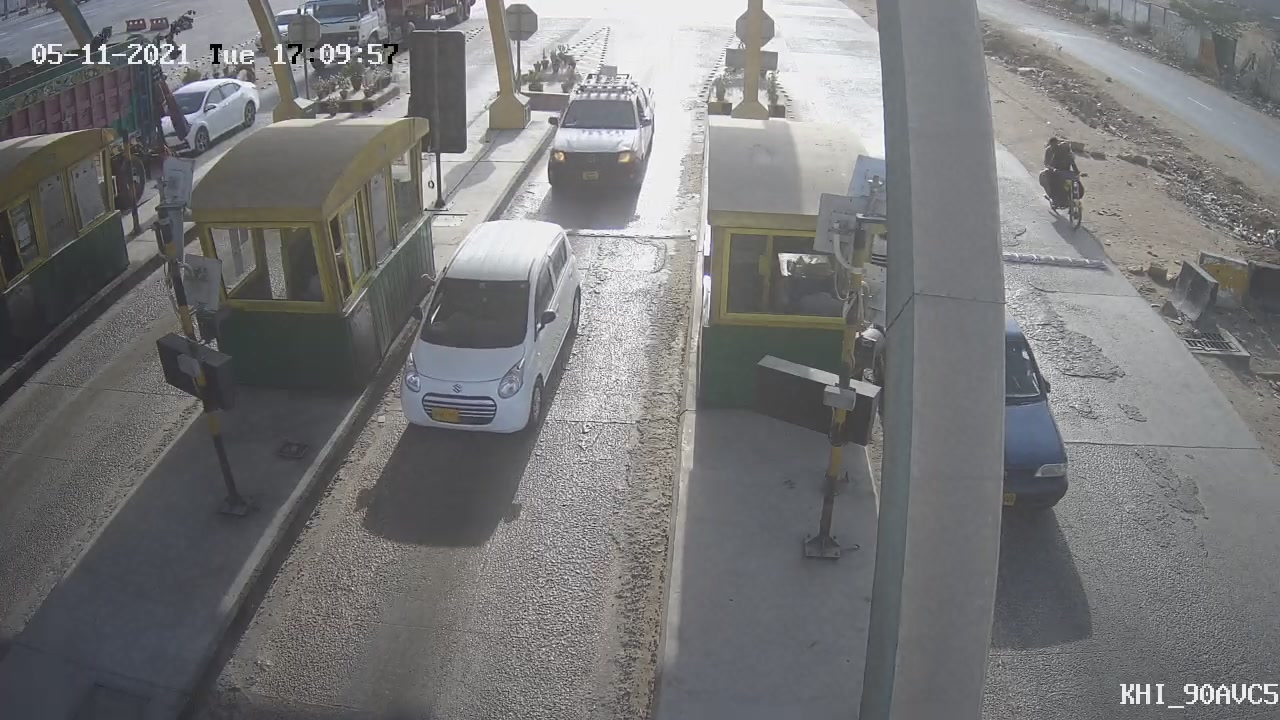F1: (377, 204, 604, 459), (527, 53, 674, 204)
